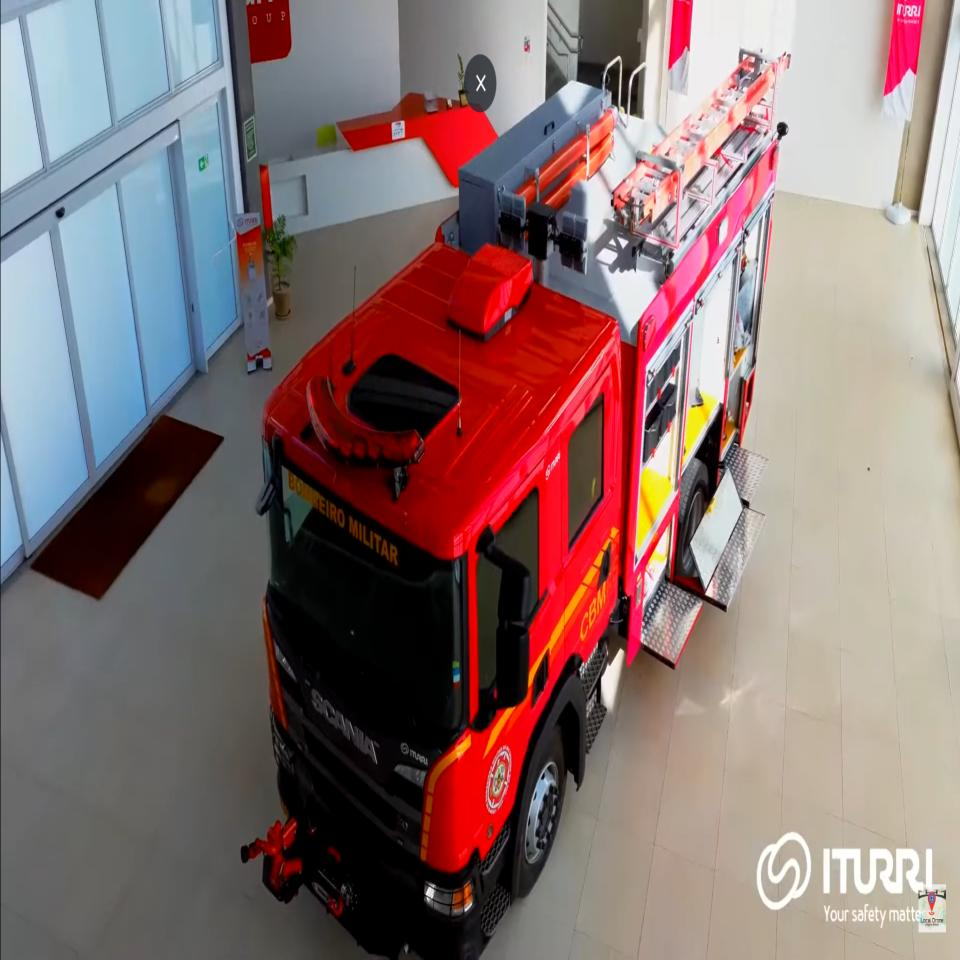viatura: (237, 40, 793, 960)
